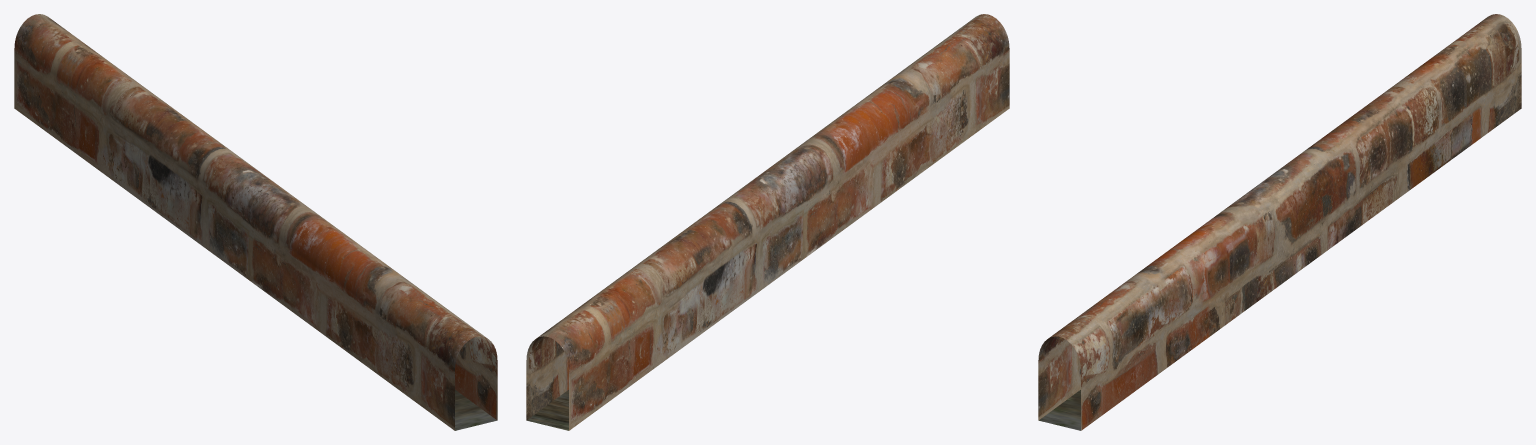
The model's file is tunnel 18m.fbx.
3 views of the same model, side by side, from view 1: azimuth 30°, elevation 25°; view 2: azimuth 150°, elevation 25°; view 3: azimuth 330°, elevation 25° (orthographic).
Parts seen in each view (by area): view 1: tunnel 18m, tunnel floor 18m; view 2: tunnel 18m, tunnel floor 18m; view 3: tunnel 18m, tunnel floor 18m.
Part boxes in pixels (bbox=[...]): tunnel 18m: bbox=[14, 14, 497, 430]; tunnel floor 18m: bbox=[455, 390, 496, 430]; tunnel 18m: bbox=[526, 14, 1009, 430]; tunnel floor 18m: bbox=[527, 390, 568, 430]; tunnel 18m: bbox=[1038, 14, 1521, 430]; tunnel floor 18m: bbox=[1039, 390, 1080, 430].
Size of the model in its own units: 100 by 1800 by 200.
